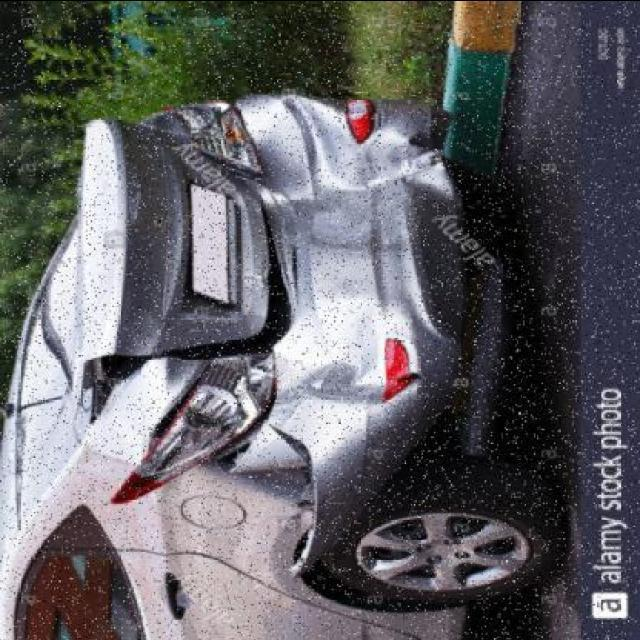rear-bumper-dent: (256, 80, 486, 537)
